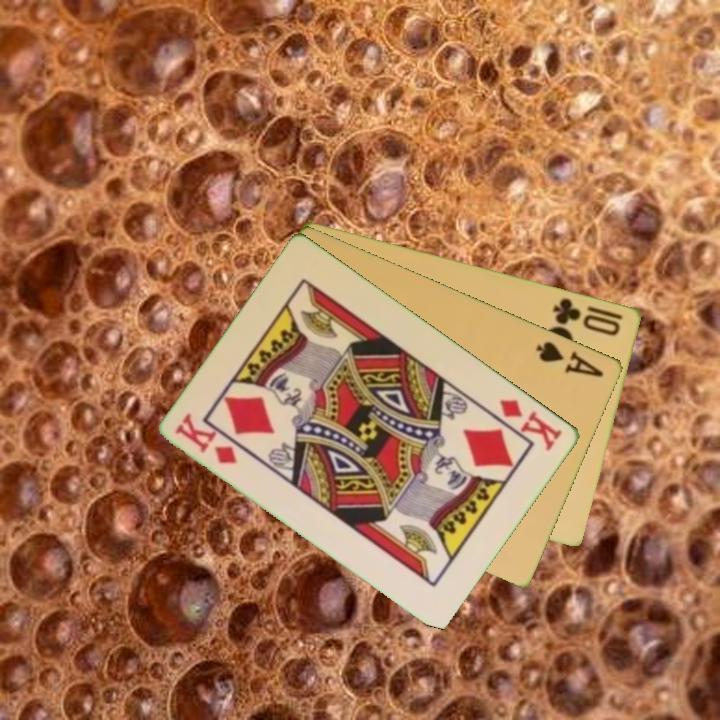10c: (550, 294, 624, 339)
As: (533, 337, 607, 380)
Kd: (496, 395, 566, 454), (172, 409, 241, 467)
